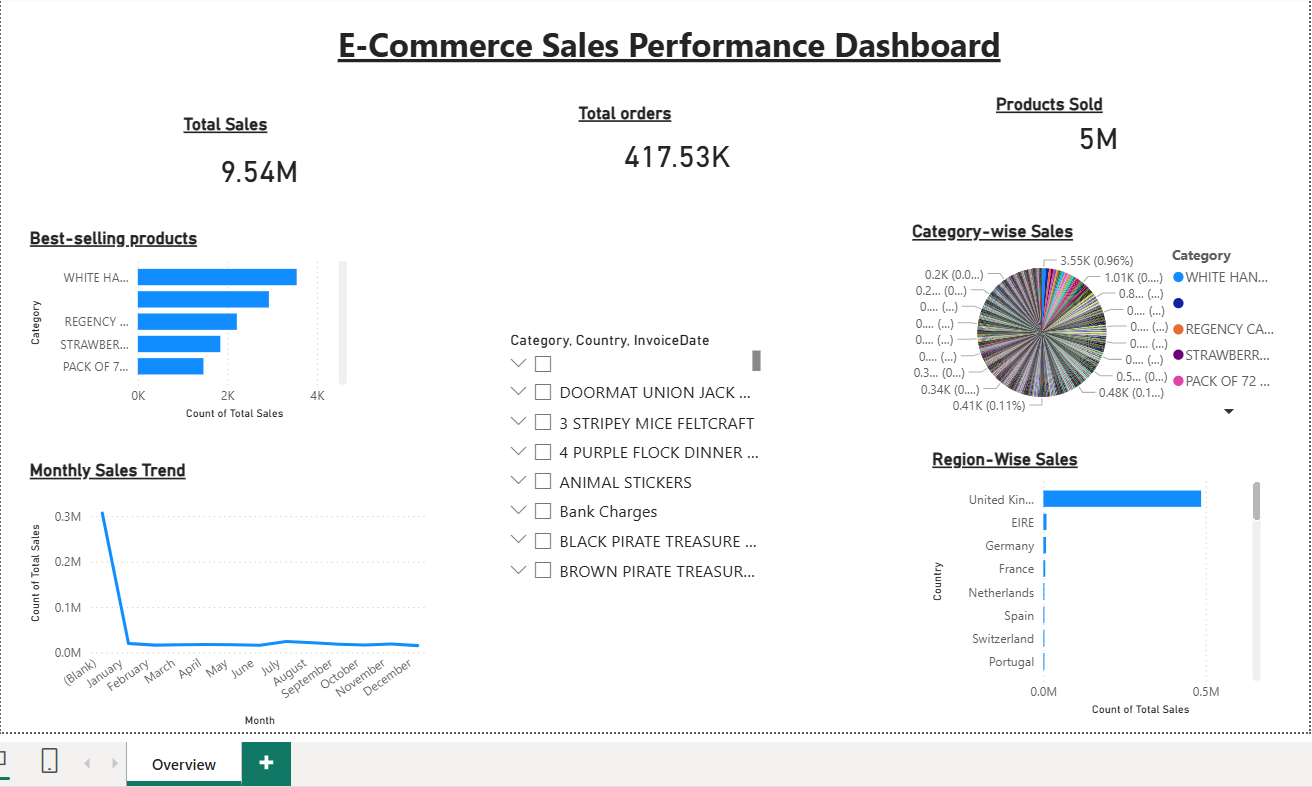

The dashboard page shown, as its layout file describes it:
{"tool":"powerbi","page":{"name":"Page 1","canvas":[1280,720],"ordinal":0},"visuals":[{"type":"barChart","fields":{"Y":["CountNonNull(Year 2009-2010.Total Sales)"],"Category":["Year 2009-2010.Category"]},"box":[25.7,108.8,432.9,298.4],"z":0},{"type":"lineChart","fields":{"Category":["Year 2009-2010.InvoiceDate.Variation.Date Hierarchy.Month"],"Y":["CountNonNull(Year 2009-2010.Total Sales)"]},"box":[834,75.8,417,283.7],"z":1},{"type":"pieChart","fields":{"Category":["Year 2009-2010.Category"],"Y":["CountNonNull(Year 2009-2010.Total Sales)"]},"box":[0,492.8,373,199.3],"z":2},{"type":"barChart","fields":{"Category":["Year 2009-2010.Country"],"Y":["CountNonNull(Year 2009-2010.Total Sales)"]},"box":[489.1,359.5,344.8,283.7],"z":3},{"type":"slicer","fields":{"Values":["Year 2009-2010.Category","Year 2009-2010.Country","Year 2009-2010.InvoiceDate"]},"box":[906.1,421.9,262.9,264.1],"z":4},{"type":"textbox","box":[470.8,83.2,295.9,149.2],"z":5}]}

Visuals, with their boxes on the page's 1280x720 design canvas (x1, y1, x2, y2). These are canvas units, not pixel positions in the 1312x787 screenshot, which may show the page scaled, cropped or inside an application window:
barChart - CountNonNull(Year 2009-2010.Total Sales) x Year 2009-2010.Category: locate(26, 109, 459, 407)
lineChart - Year 2009-2010.InvoiceDate.Variation.Date Hierarchy.Month x CountNonNull(Year 2009-2010.Total Sales): locate(834, 76, 1251, 360)
pieChart - Year 2009-2010.Category x CountNonNull(Year 2009-2010.Total Sales): locate(0, 493, 373, 692)
barChart - Year 2009-2010.Country x CountNonNull(Year 2009-2010.Total Sales): locate(489, 360, 834, 643)
slicer - Year 2009-2010.Category x Year 2009-2010.Country: locate(906, 422, 1169, 686)
textbox: locate(471, 83, 767, 232)
